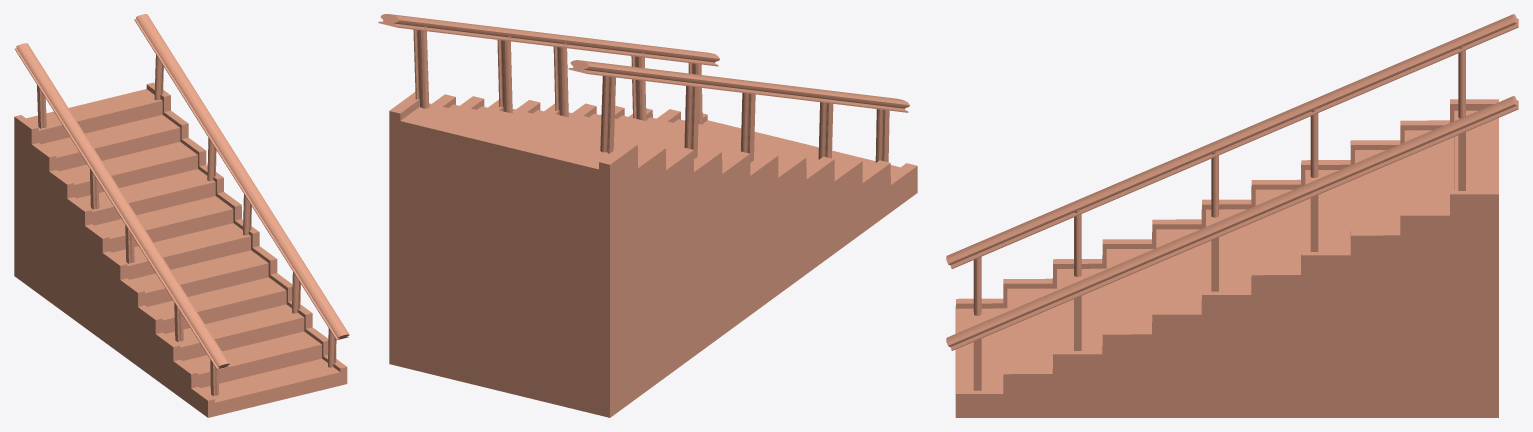
File: EscadaLow.fbx
The picture shows the model from 3 angles, left to right: view 1: azimuth 30°, elevation 25°; view 2: azimuth 150°, elevation 25°; view 3: azimuth 270°, elevation 25°; orthographic projection. The views are drawn at different scales.
Visible parts, largest first — view 1: Escada.001; view 2: Escada.001; view 3: Escada.001.
Boxes of the visible parts, x1,y1,x2,y2 form: Escada.001: (14, 14, 349, 417); Escada.001: (378, 14, 917, 417); Escada.001: (946, 14, 1518, 417).
Size of the model in its own units: 402 by 622 by 1022.
